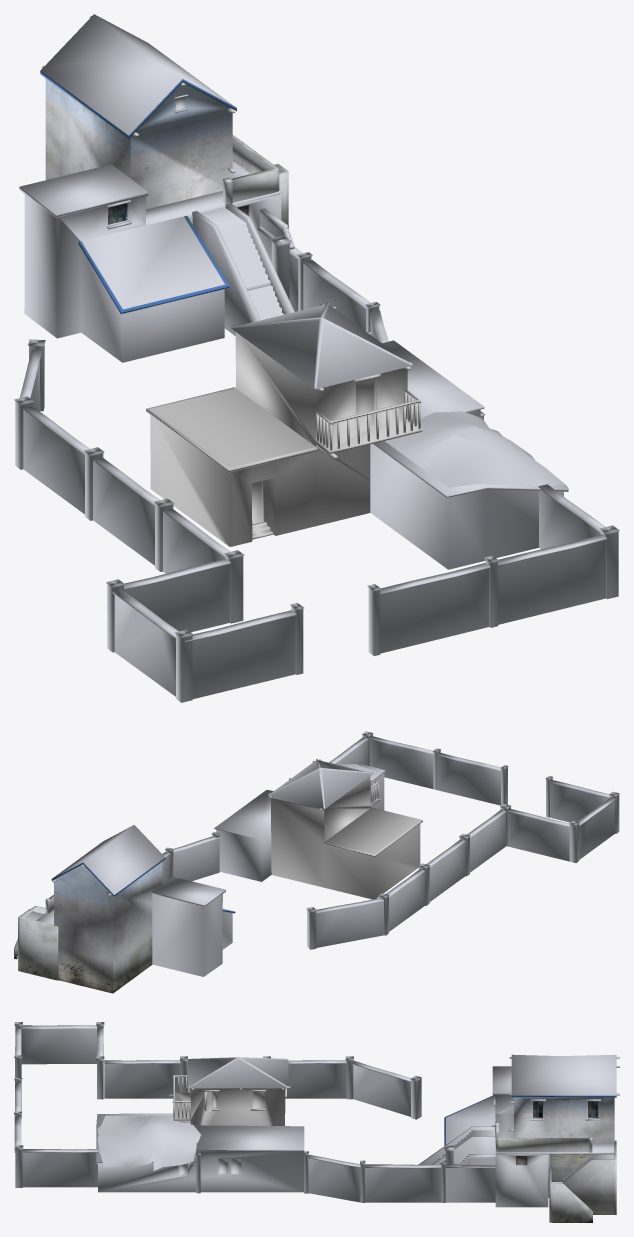
Rendered from BuildingE.obj.
The picture shows the model from 3 angles, top to bottom: view 1: azimuth 30°, elevation 25°; view 2: azimuth 150°, elevation 25°; view 3: azimuth 270°, elevation 25°; orthographic projection. The views are drawn at different scales.
Parts seen in each view (by area): view 1: BuildingE; view 2: BuildingE; view 3: BuildingE.
Part boxes in pixels (box(x1,y1,x2,y2)): BuildingE: box(14, 14, 619, 702); BuildingE: box(14, 731, 619, 993); BuildingE: box(14, 1022, 619, 1222).
Bounding box in the file's own units: 916 × 338 × 1450.
